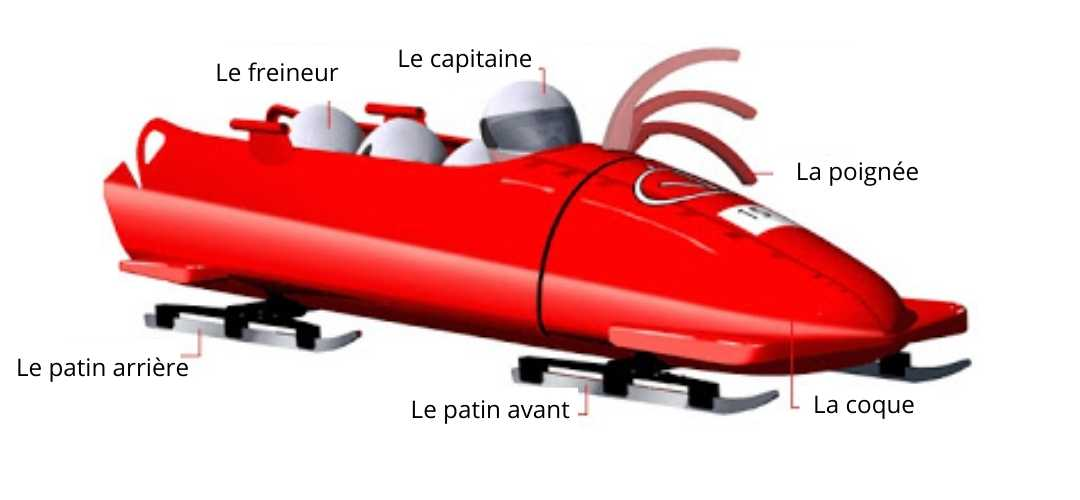Bobsleigh: (101, 48, 972, 416)
